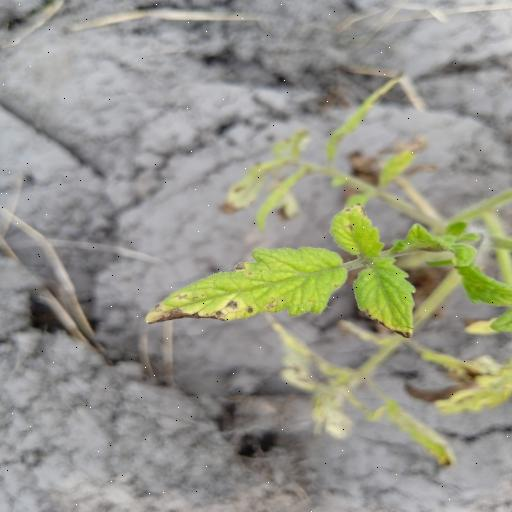Tomato_Brown_Spots: (148, 243, 348, 329), (352, 261, 420, 335)
